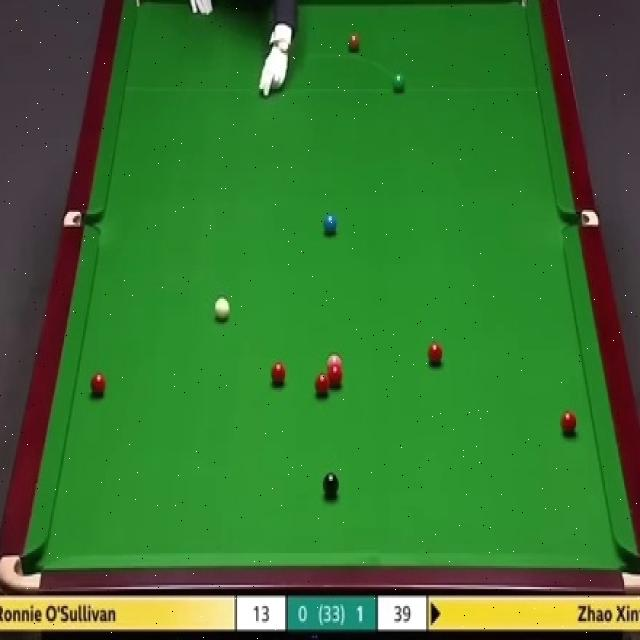black-ball: (323, 470, 340, 498)
blue-ball: (323, 212, 339, 235)
brown-ball: (348, 32, 360, 54)
green-ball: (391, 71, 405, 93)
pink-ball: (326, 354, 343, 369)
red-ball: (90, 370, 107, 399), (560, 412, 578, 436), (326, 366, 344, 388), (270, 362, 286, 386), (427, 342, 443, 366), (315, 373, 330, 397)
white-ball: (212, 296, 231, 323)
